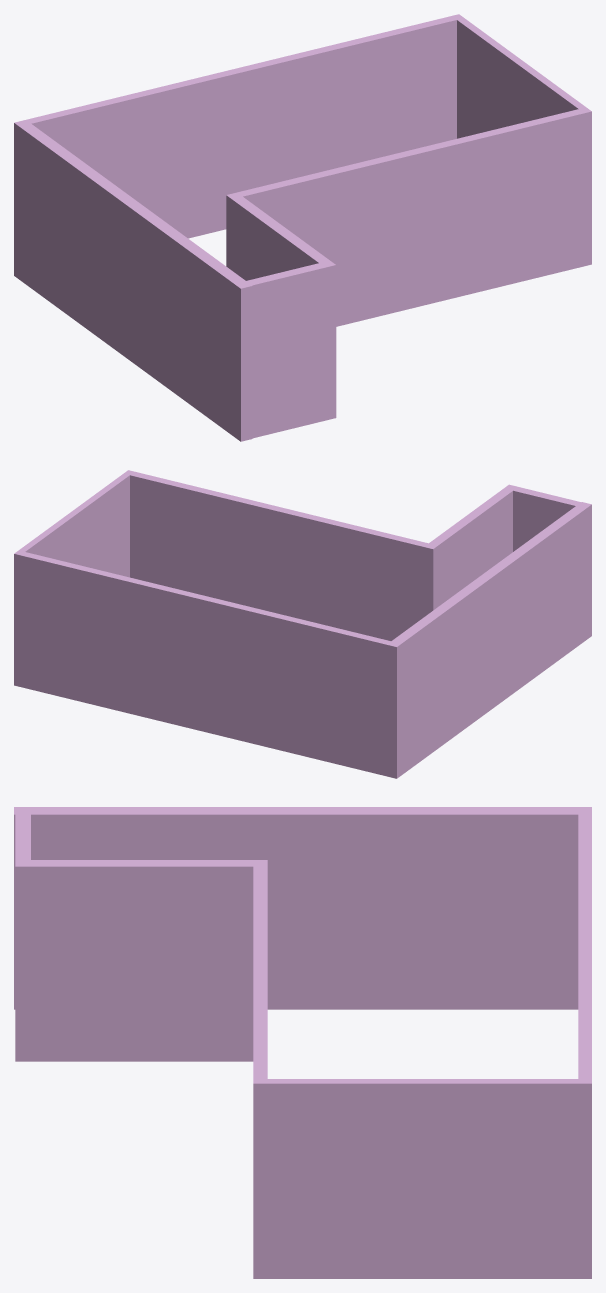
File: Walls.fbx
3 views of the same model, one above another, from view 1: azimuth 30°, elevation 25°; view 2: azimuth 150°, elevation 25°; view 3: azimuth 270°, elevation 25° (orthographic). The views are drawn at different scales.
Parts seen in each view (by area): view 1: Walls; view 2: Walls; view 3: Walls.
Part boxes in pixels (box(x1,y1,x2,y2)): Walls: box(14, 14, 591, 441); Walls: box(14, 470, 591, 778); Walls: box(14, 807, 591, 1278).
Size of the model in its own units: 2827 by 929 by 2496.
